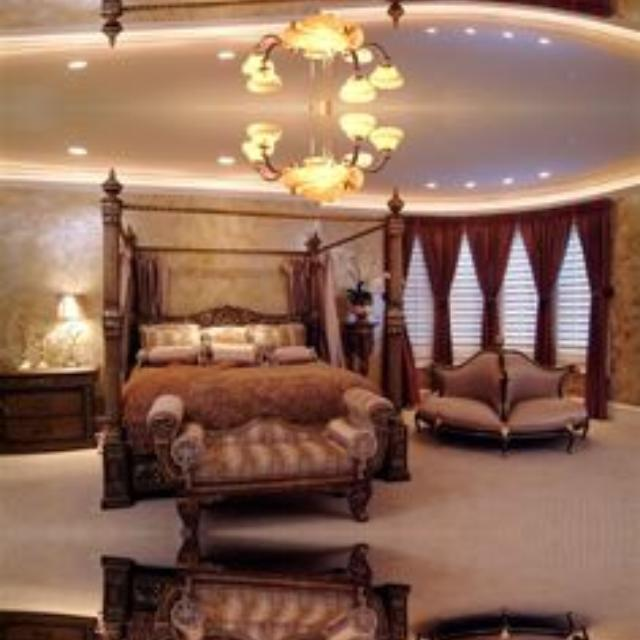bed: (101, 173, 412, 506)
chair: (419, 351, 588, 451)
curtain: (405, 201, 608, 416), (402, 340, 414, 404)
dresser: (0, 370, 98, 451), (0, 614, 93, 640)
lamp: (241, 108, 405, 201), (241, 13, 405, 106), (42, 293, 91, 367)
plant: (342, 281, 375, 374)
